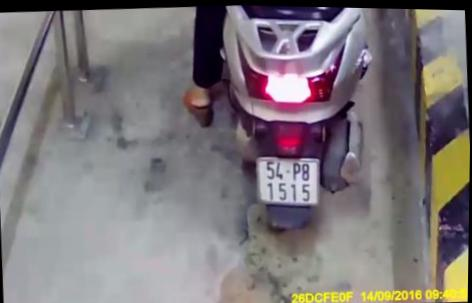LP: (255, 151, 322, 206)
